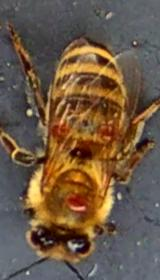varroa_mite: (86, 109, 124, 148), (59, 184, 90, 215), (46, 114, 78, 144)
